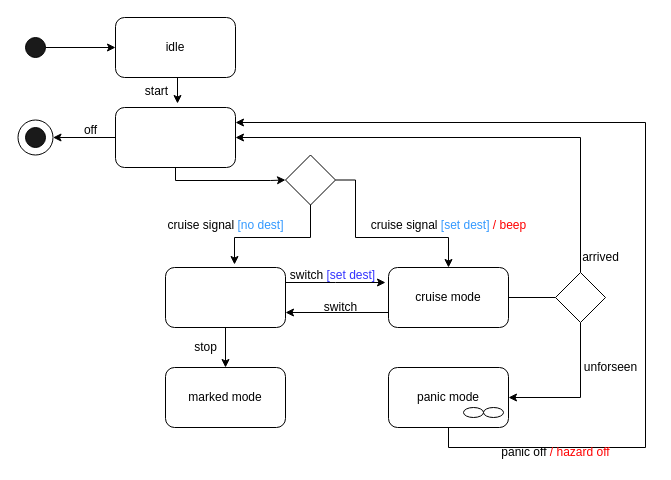
The diagram is 671 pixels wide and 480 high, and some of its shapes have lost their labels. The shapes that lost their labels are listed below. From the top down, each one's box as (x1, y1, x2, y2) in pixels, then its label:
(114, 106, 236, 168): parked mode
(164, 266, 286, 328): manual mode
